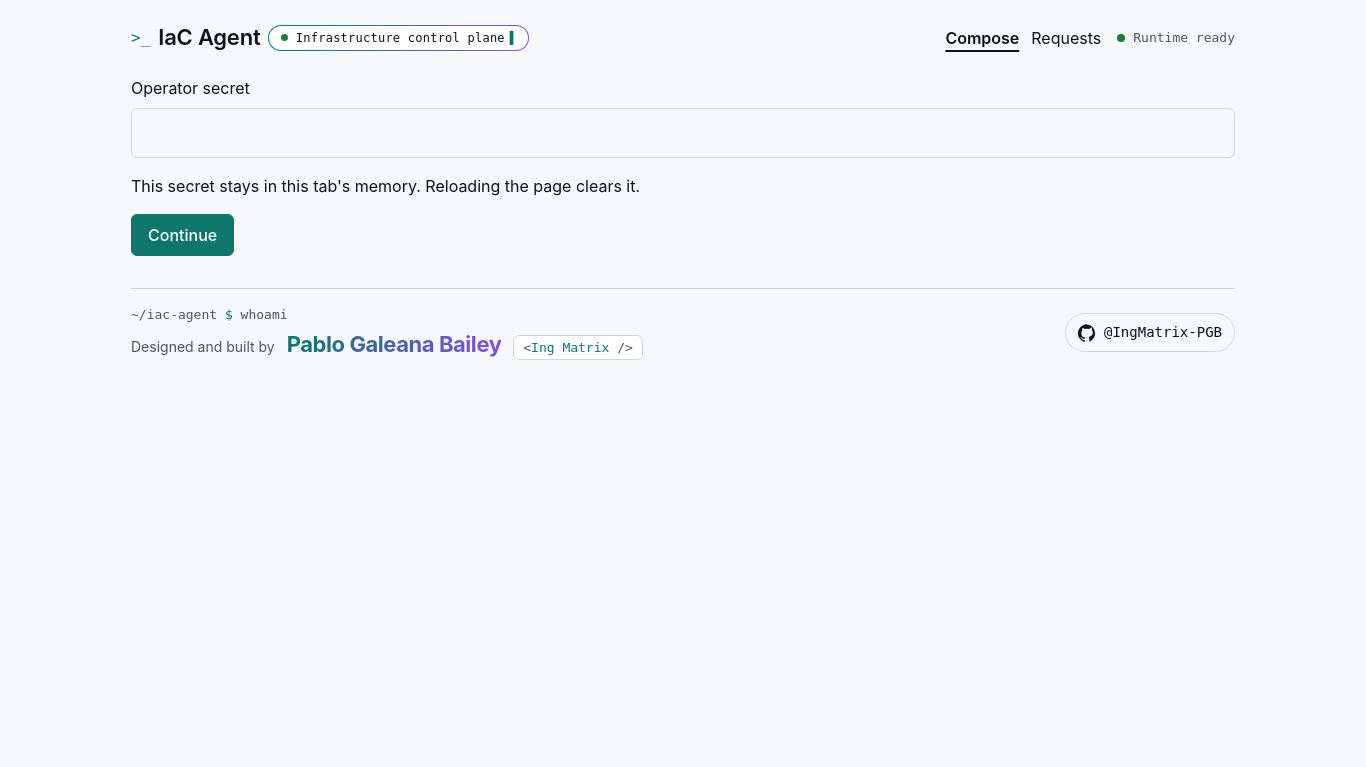
it: operator shell › groups the composer and the open-request control
This screenshot has width=1366, height=767.
Type "test-operator-secret" into the password field labelled "Operator secret" at (683, 132), box 131,108 -> 1235,158
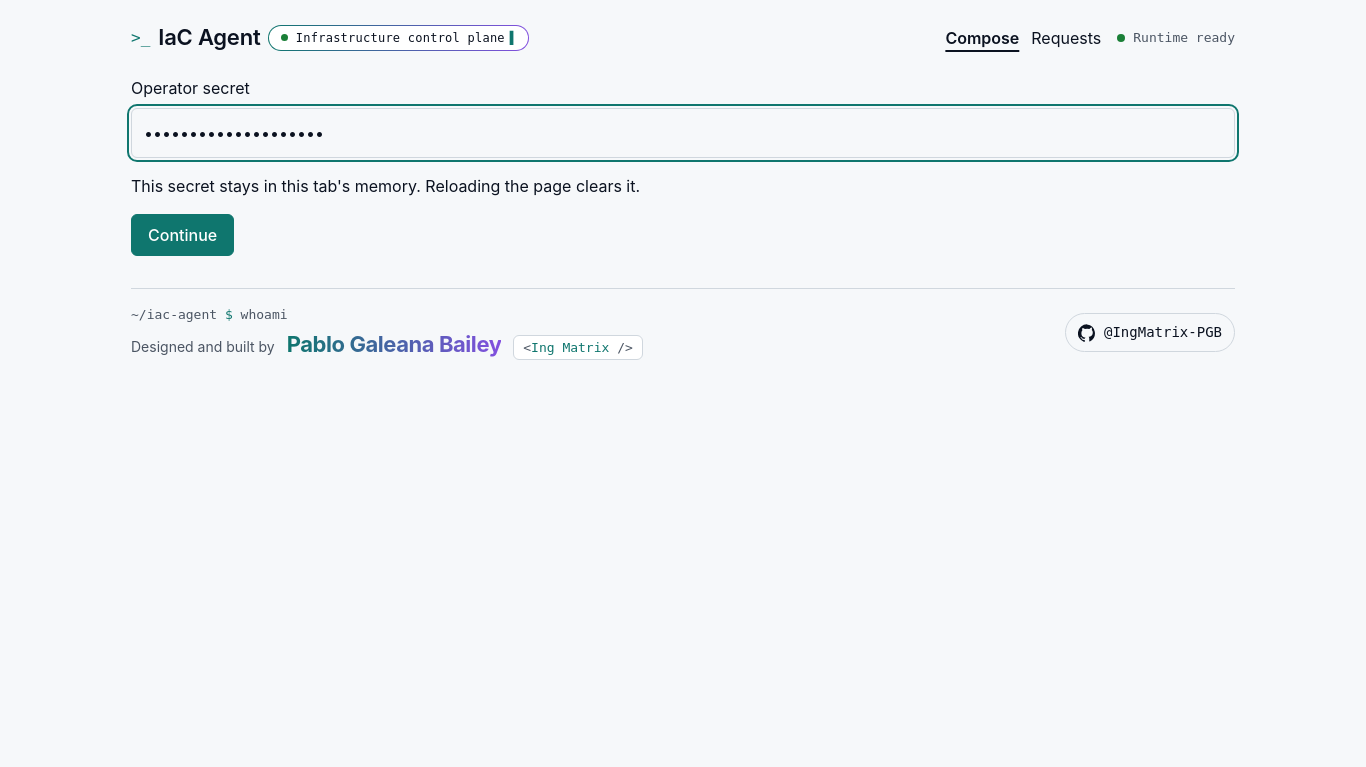
Click the button "Continue" at (183, 234), box 131,214 -> 234,256
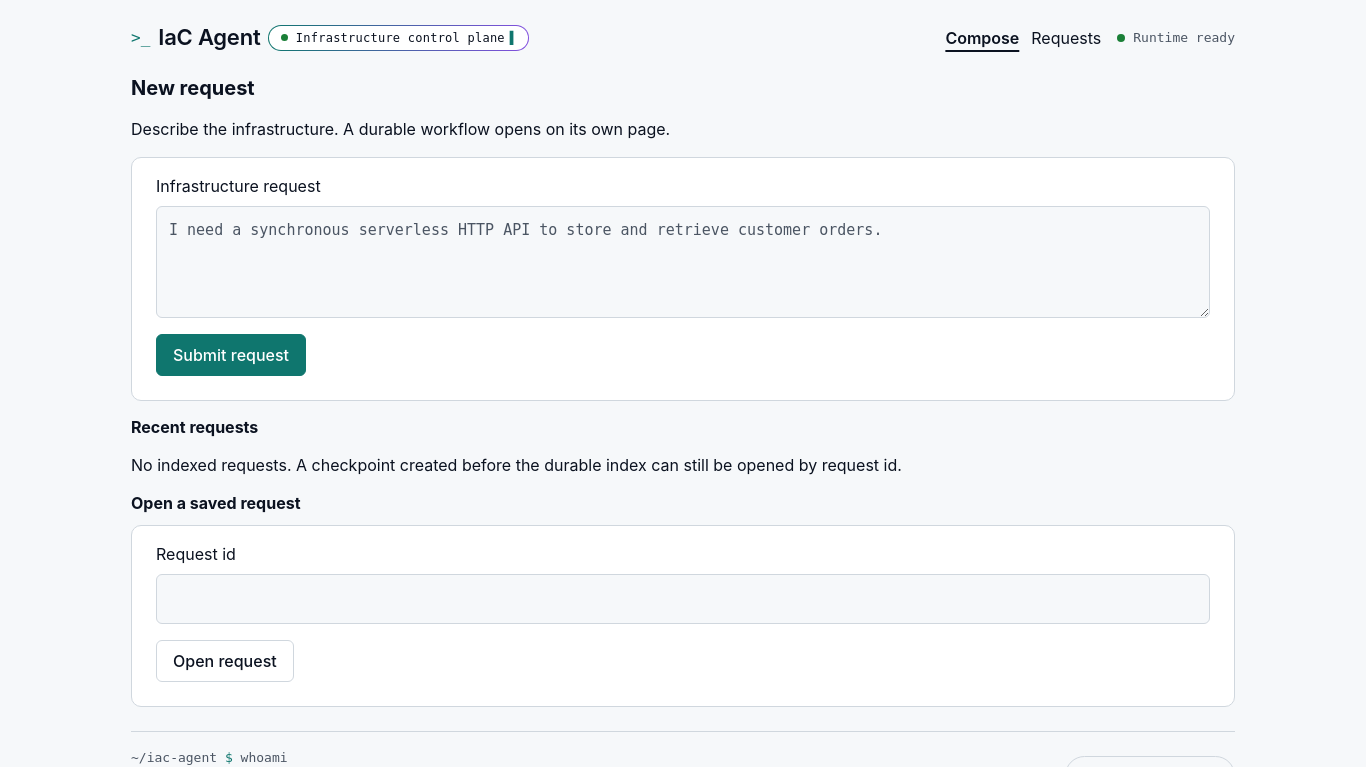
Check: the heading "New request" is shown, box 131,76 -> 255,100
Check: the heading "Open a saved request" is shown, box 131,492 -> 300,512
Check: the text box labelled "Infrastructure request" is shown, box 156,206 -> 1210,318
